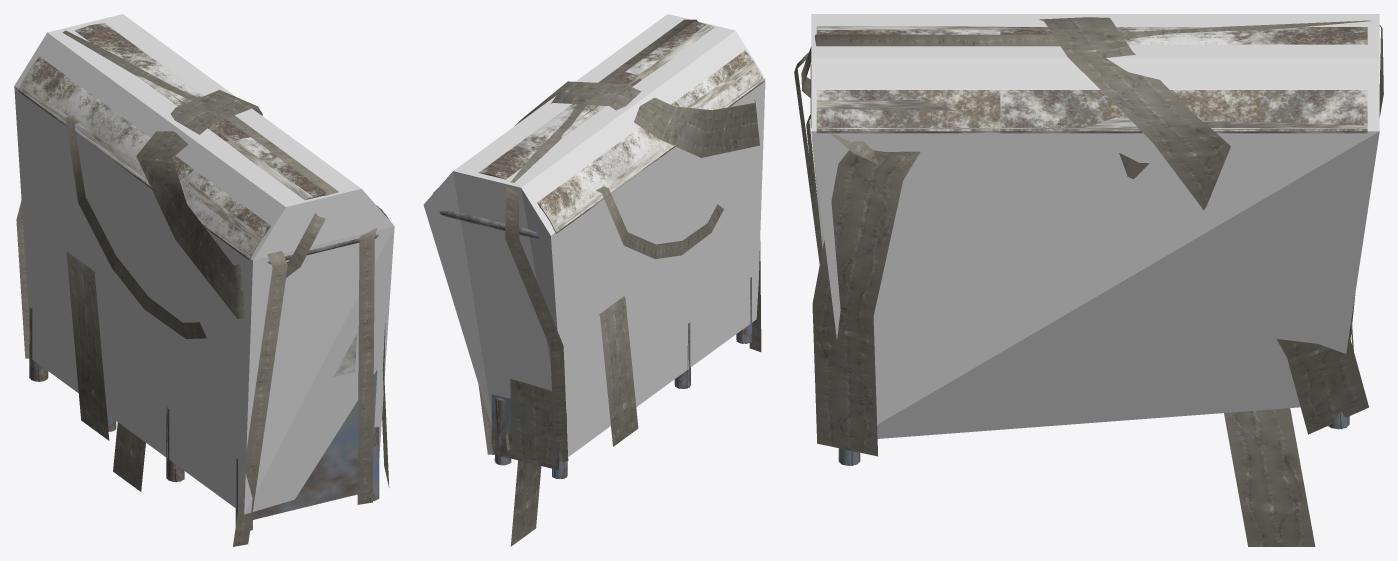
Rendered from busstop_jri.dae.
3 renders of one model, left to right at view 1: azimuth 30°, elevation 25°; view 2: azimuth 150°, elevation 25°; view 3: azimuth 270°, elevation 25°, orthographic. The views are drawn at different scales.
Parts seen in each view (by area): view 1: Colmesh-1, busstop_jri_a200, busstop_jri_a100, busstop_jri_a70; view 2: Colmesh-1, busstop_jri_a200, busstop_jri_a100, busstop_jri_a70; view 3: Colmesh-1, busstop_jri_a200, busstop_jri_a100.
Part boxes in pixels (bbox=[...]): Colmesh-1: bbox=[14, 14, 394, 514]; busstop_jri_a200: bbox=[16, 23, 389, 546]; busstop_jri_a100: bbox=[19, 85, 387, 524]; busstop_jri_a70: bbox=[34, 99, 377, 520]; Colmesh-1: bbox=[423, 14, 765, 456]; busstop_jri_a200: bbox=[433, 19, 764, 546]; busstop_jri_a100: bbox=[478, 24, 759, 479]; busstop_jri_a70: bbox=[491, 78, 763, 470]; Colmesh-1: bbox=[811, 14, 1379, 438]; busstop_jri_a200: bbox=[794, 20, 1383, 546]; busstop_jri_a100: bbox=[813, 17, 1367, 546].
Bounding box in the file's own units: 1.69 × 4.3 × 4.16.
3 materials, 3 textured.
